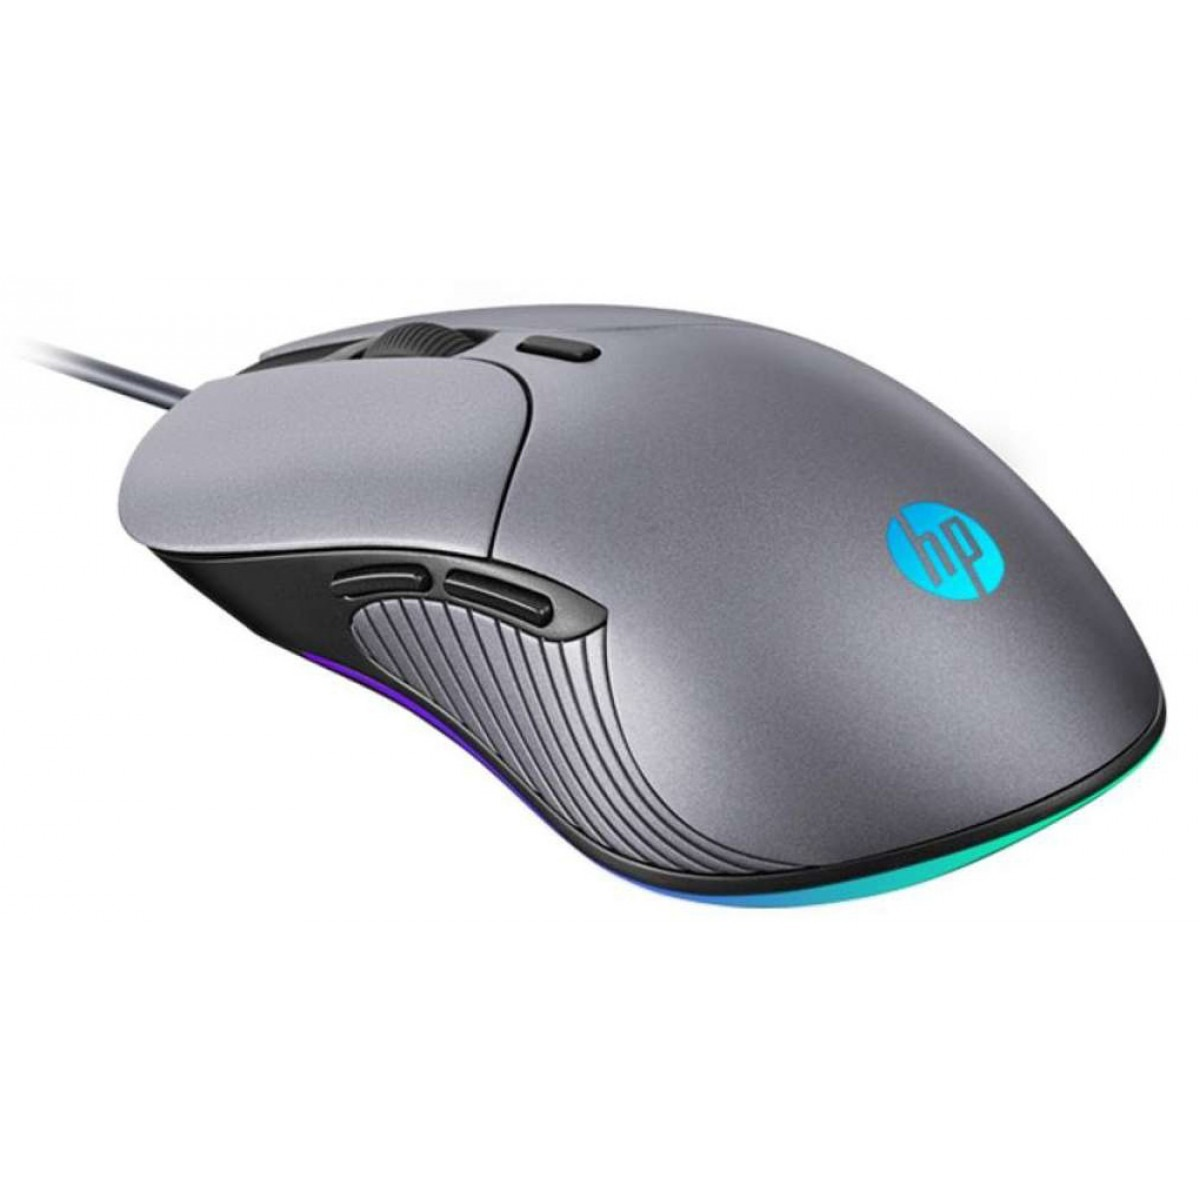mouse: (75, 280, 1173, 944)
